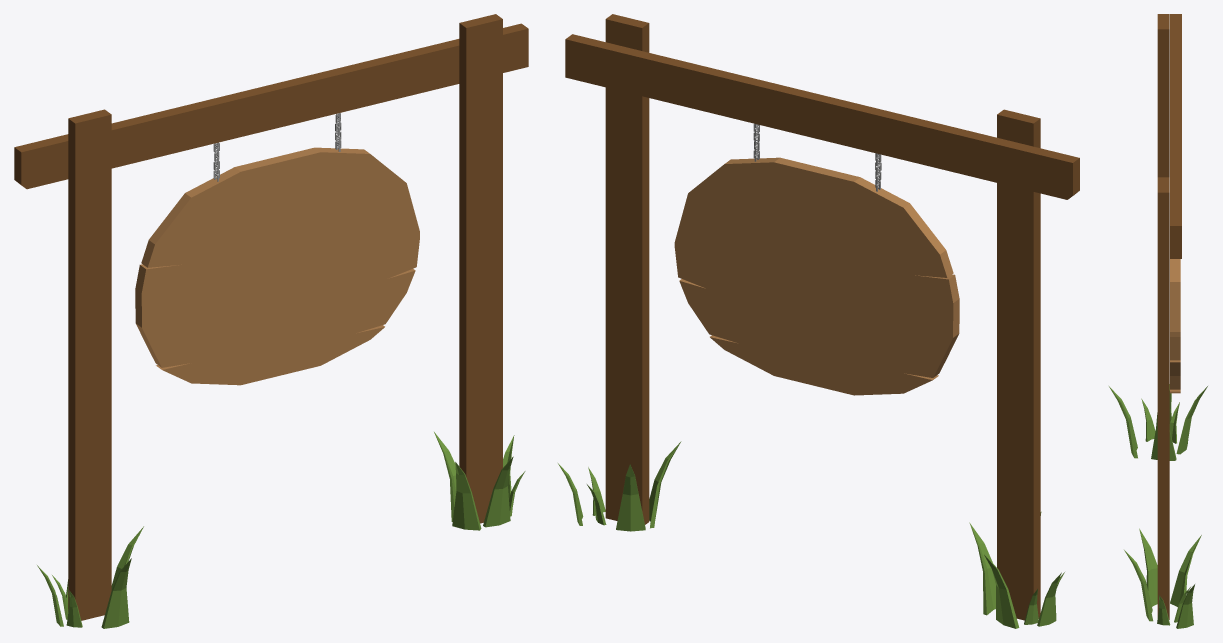
Rendered from Wooden Sign-EpQJ6RRLKZ.glb.
3 views of the same model, side by side, from view 1: azimuth 30°, elevation 25°; view 2: azimuth 150°, elevation 25°; view 3: azimuth 270°, elevation 25° (orthographic). The views are drawn at different scales.
Parts seen in each view (by area): view 1: Sign2; view 2: Sign2; view 3: Sign2.
Boxes of the visible parts, x1,y1,x2,y2 form: Sign2: (14,14,528,628); Sign2: (558,14,1079,628); Sign2: (1109,14,1207,628).
Size of the model in its own units: 2.21 by 2.08 by 0.4436.
